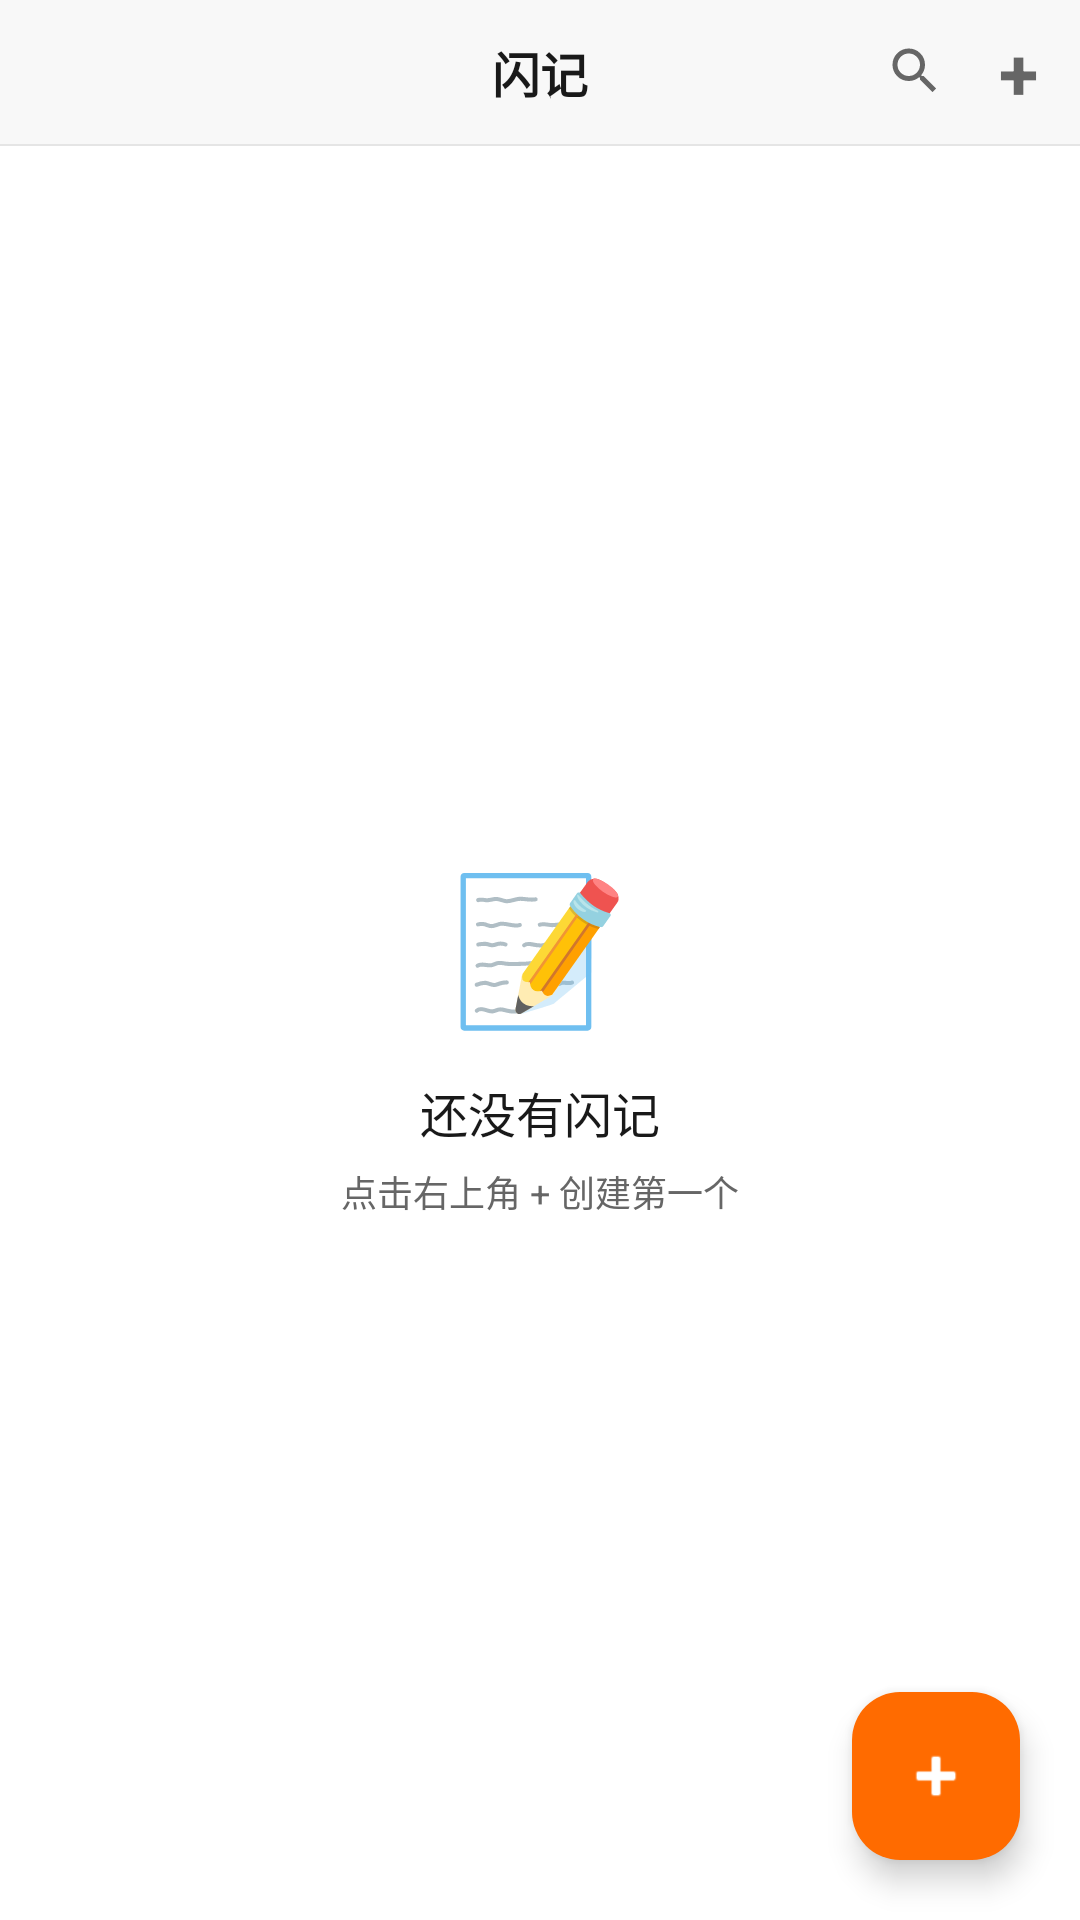

Where to tap for icons on this 1080px x 1920px app screen, as point (x, y):
搜索: point (914, 70)
